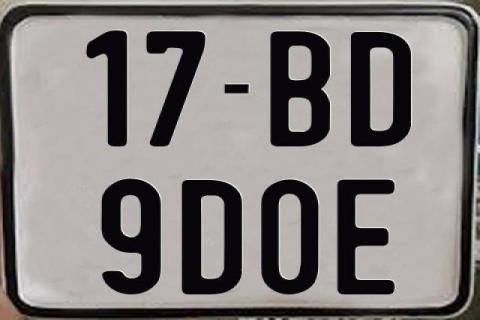0: (98, 177, 164, 295), (260, 177, 321, 297), (146, 30, 205, 148), (85, 29, 131, 145)
B: (269, 29, 333, 148)
D: (351, 30, 416, 146), (182, 179, 248, 293)
E: (337, 178, 398, 294)
